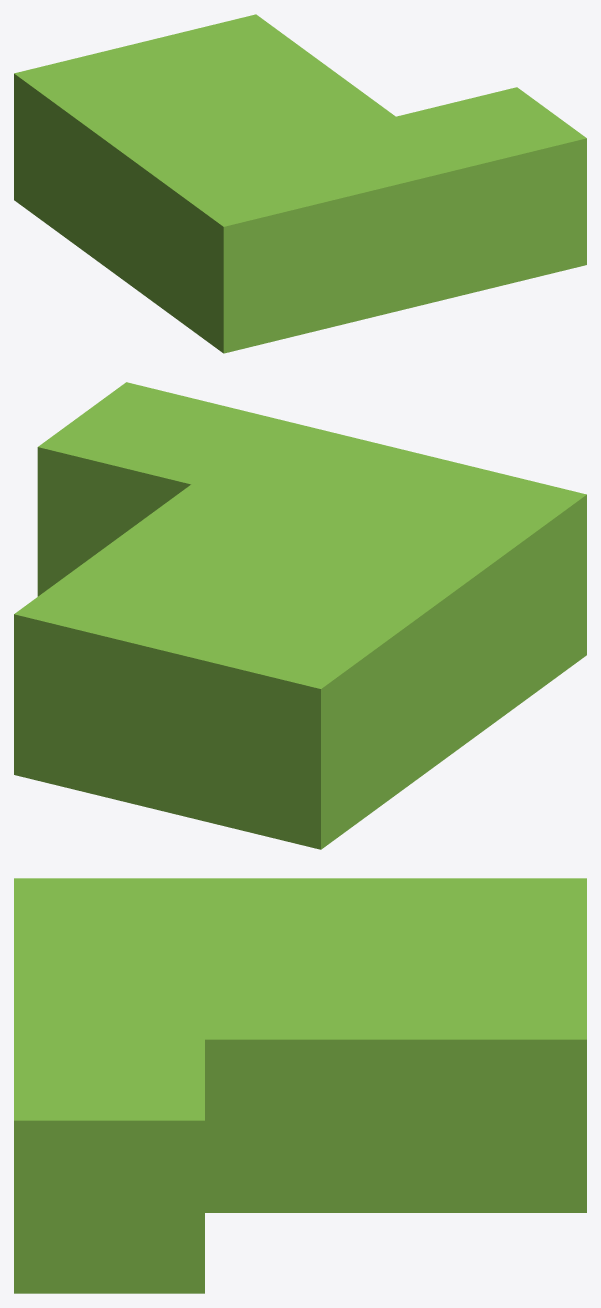
Rendered from x_zem_0_40_1_rmstrd.fbx.
The picture shows the model from 3 angles, top to bottom: view 1: azimuth 30°, elevation 25°; view 2: azimuth 150°, elevation 25°; view 3: azimuth 270°, elevation 25°; orthographic projection. The views are drawn at different scales.
Visible parts, largest first — view 1: x_zem_0_40_1_rmstrd1; view 2: x_zem_0_40_1_rmstrd1; view 3: x_zem_0_40_1_rmstrd1.
Part boxes in pixels (x1,y1,x2,y2): x_zem_0_40_1_rmstrd1: [14, 14, 586, 353]; x_zem_0_40_1_rmstrd1: [14, 382, 586, 849]; x_zem_0_40_1_rmstrd1: [14, 878, 586, 1293].
Bounding box in the file's own units: 3 × 1 × 3.
